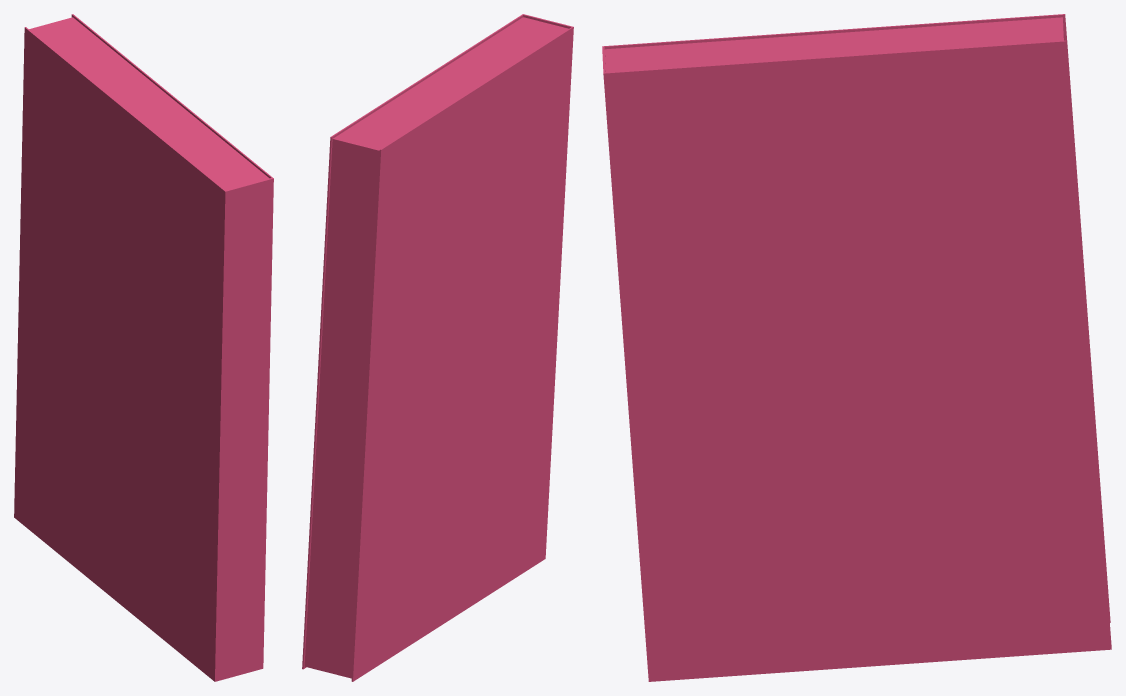
File: Book3.gltf
3 views of the same model, side by side, from view 1: azimuth 30°, elevation 25°; view 2: azimuth 150°, elevation 25°; view 3: azimuth 270°, elevation 25° (orthographic). The views are drawn at different scales.
Parts seen in each view (by area): view 1: Book3; view 2: Book3; view 3: Book3.
Part boxes in pixels (x1,y1,x2,y2): Book3: (14, 14, 273, 681); Book3: (302, 14, 573, 681); Book3: (602, 14, 1111, 681).
Bounding box in the file's own units: 0.0742 × 0.588 × 0.4291.
